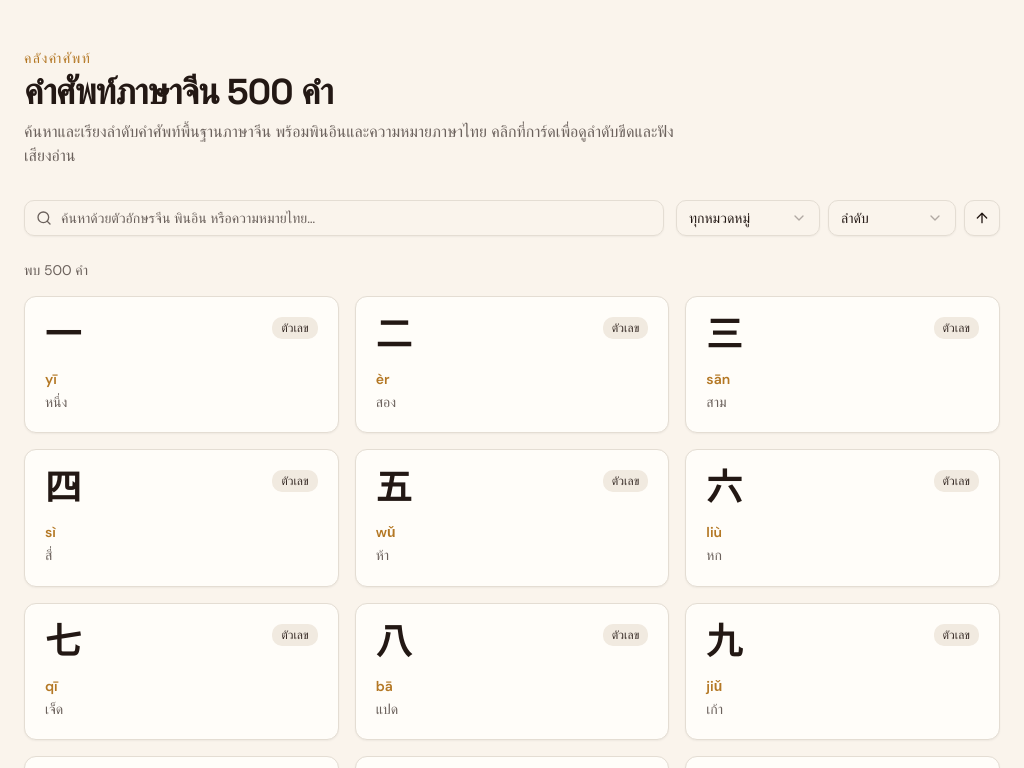
Test case: VocabularyListPage › shows an empty state when no card matches the search
The image size is (1024, 768).
In the field named "ค้นหาคำศัพท์": point(344, 218) [24,200,664,236], type "zzzzzz"
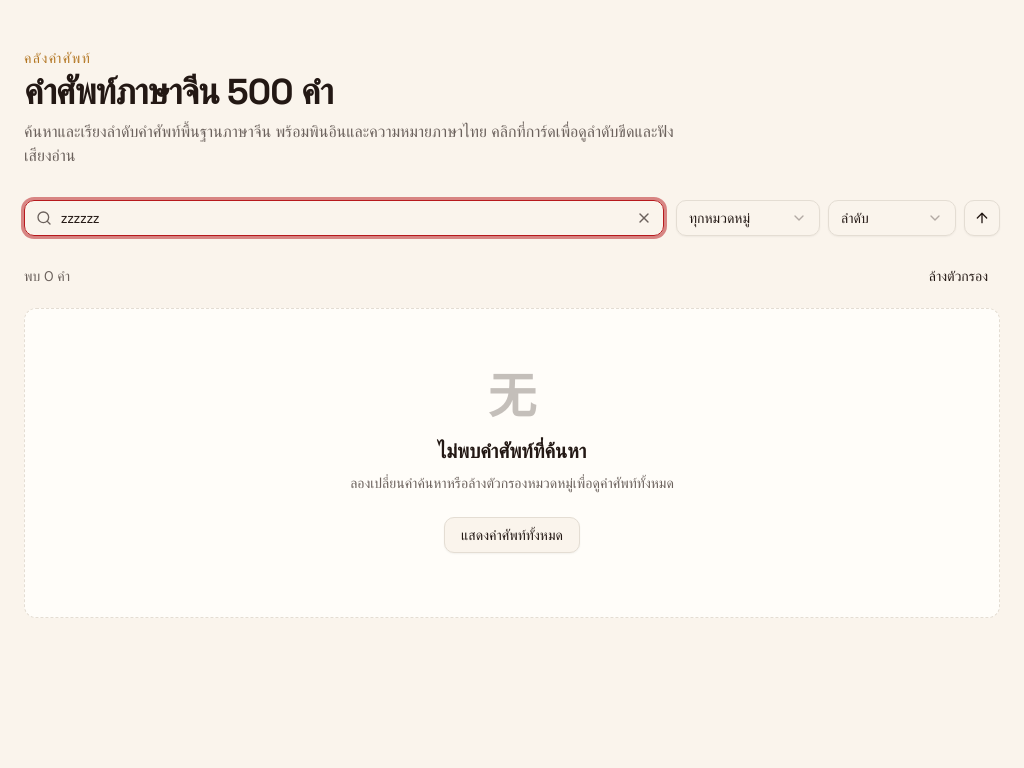
expect the heading "ไม่พบคำศัพท์ที่ค้นหา" is shown: met, box [438,437,586,465]
